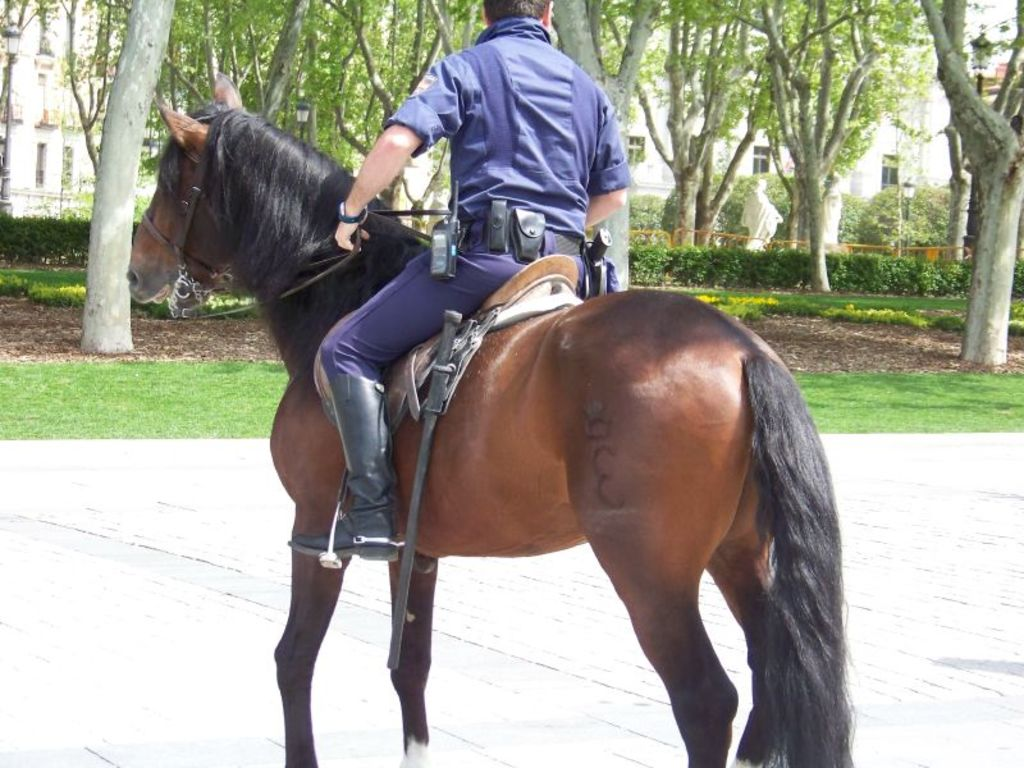Tree: (40, 0, 1024, 364)
